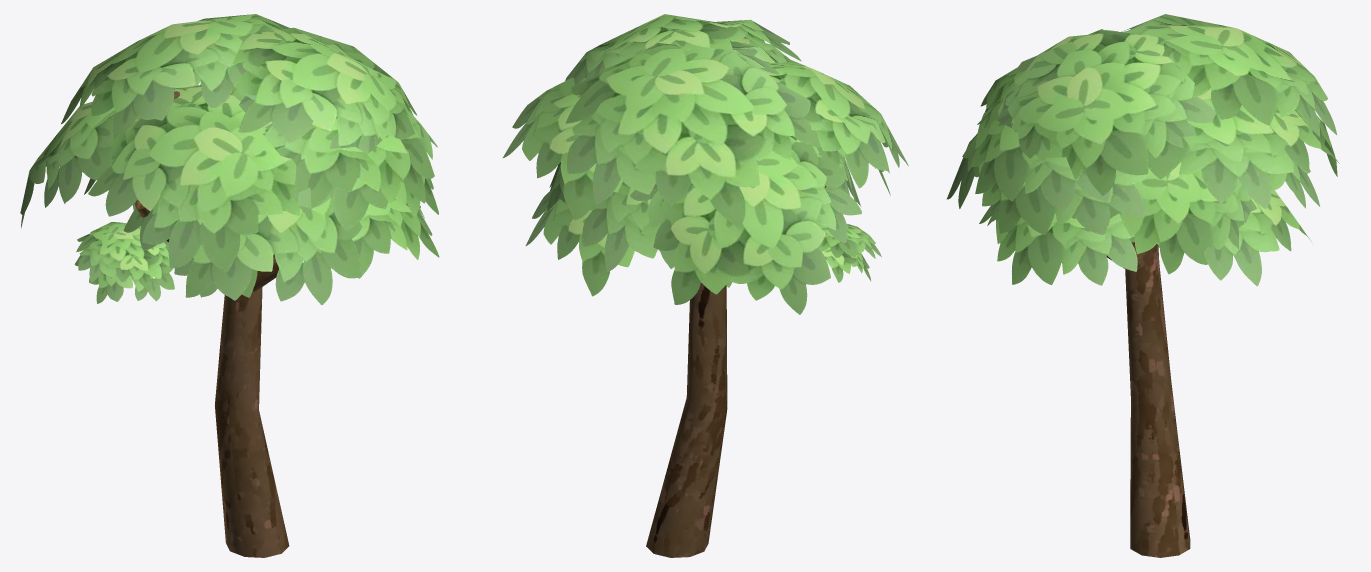
Rendered from tree_1.glb.
The picture shows the model from 3 angles, left to right: view 1: azimuth 30°, elevation 25°; view 2: azimuth 150°, elevation 25°; view 3: azimuth 270°, elevation 25°; orthographic projection.
Parts seen in each view (by area): view 1: Tree_1; view 2: Tree_1; view 3: Tree_1.
Part boxes in pixels (box(x1,y1,x2,y2)): Tree_1: box(20, 14, 439, 557); Tree_1: box(503, 14, 908, 557); Tree_1: box(946, 14, 1339, 557).
Bounding box in the file's own units: 4.14 × 5.54 × 4.13.
2 materials, 2 textured.
